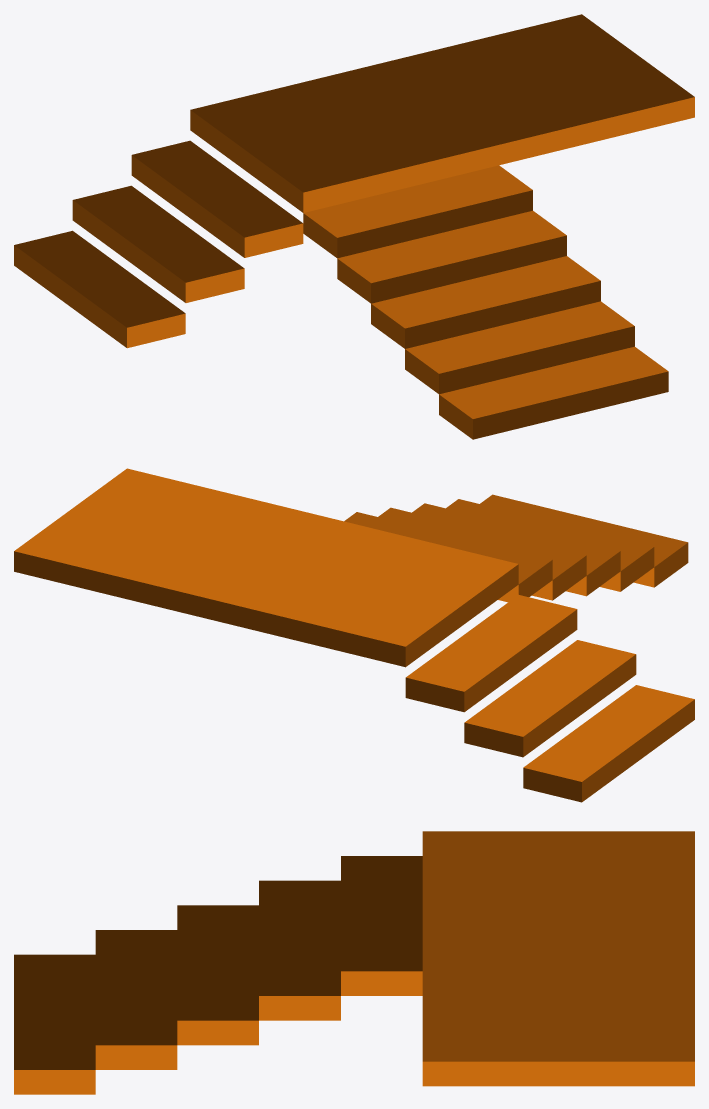
The model's file is staircases.dae.
The picture shows the model from 3 angles, top to bottom: view 1: azimuth 30°, elevation 25°; view 2: azimuth 150°, elevation 25°; view 3: azimuth 270°, elevation 25°; orthographic projection. The views are drawn at different scales.
Visible parts, largest first — view 1: node (×9); view 2: node (×9); view 3: node (×6).
Boxes of the visible parts, x1,y1,x2,y2 form: node (×9): (14,14,694,439); node (×9): (14,468,694,802); node (×6): (14,831,694,1094).
Size of the model in its own units: 2.9 by 2.5 by 0.6.
